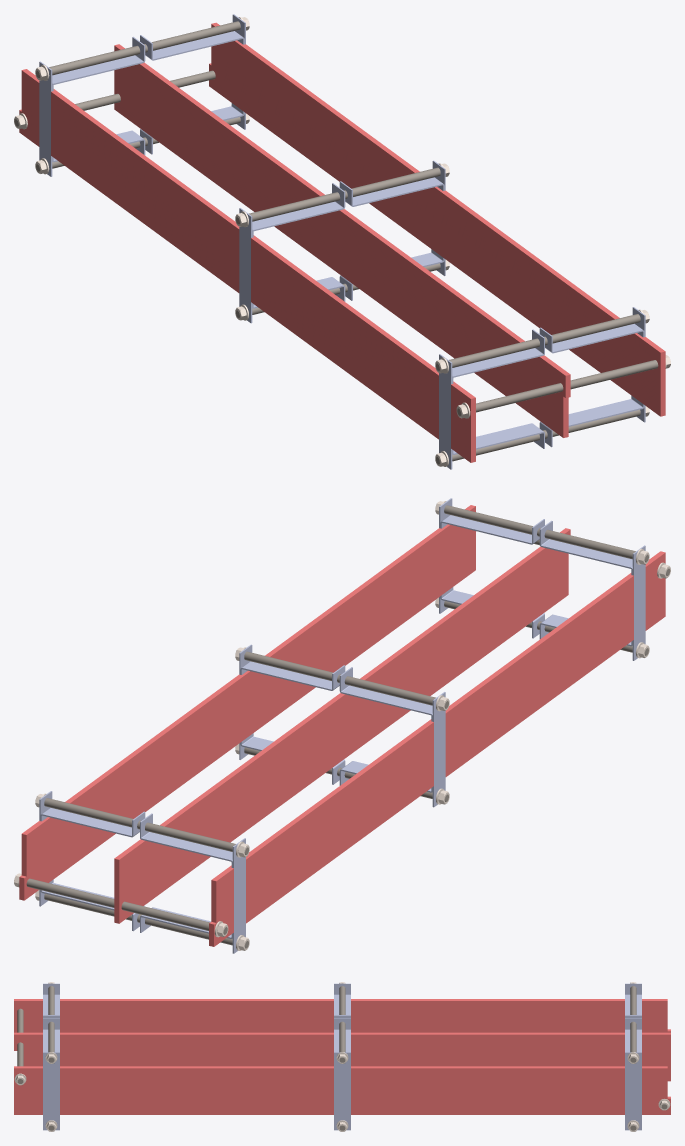
File: BATTERY MODULE V1__SPINE.glb
3 views of the same model, one above another, from view 1: azimuth 30°, elevation 25°; view 2: azimuth 150°, elevation 25°; view 3: azimuth 270°, elevation 25° (orthographic). The views are drawn at different scales.
Visible parts, largest first — view 1: object 53, clamp (×6), tension-rod (×6), compression-plate (×3); view 2: object 53, clamp (×6), tension-rod (×5), compression-plate (×3); view 3: object 53, compression-plate (×3), clamp (×6), tension-rod (×4).
Boxes of the visible parts, x1,y1,x2,y2 form: object 53: [19, 22, 665, 462]; clamp (×6): [52, 31, 644, 454]; tension-rod (×6): [14, 21, 658, 464]; compression-plate (×3): [39, 61, 452, 469]; object 53: [19, 505, 665, 946]; clamp (×6): [40, 515, 632, 938]; tension-rod (×5): [26, 505, 648, 948]; compression-plate (×3): [232, 545, 645, 953]; object 53: [14, 999, 670, 1114]; compression-plate (×3): [43, 1052, 641, 1130]; clamp (×6): [43, 994, 641, 1052]; tension-rod (×4): [17, 986, 636, 1083].
Size of the model in its own units: 0.2603 by 0.1318 by 0.9738.
